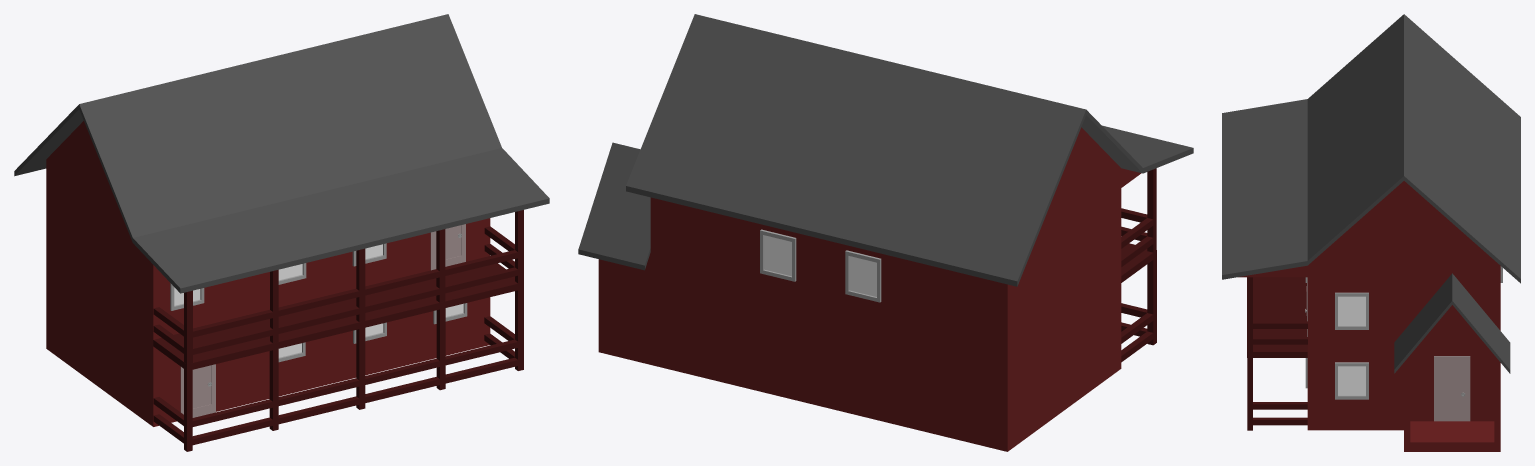
The model's file is Ass_House4_JC_001.fbx.
3 renders of one model, left to right at view 1: azimuth 30°, elevation 25°; view 2: azimuth 150°, elevation 25°; view 3: azimuth 270°, elevation 25°, orthographic. The views are drawn at different scales.
Visible parts, largest first — view 1: mainRoof, MainBody, Verandah, polySurface6, polySurface4, MainBeam53, MainBeam62, MainBeam47, MainBeam48, MainBeam50, MainBeam63, MainBeam51 (+19 smaller); view 2: MainBody, mainRoof, sideRoof, windowframe5, windowframe4, MainBeam43, MainBeam39, Verandah; view 3: mainRoof, MainBody, sideRoof, Verandah, polySurface2, windowframe6, windowframe7, MainBeam71, MainBeam, MainBeam65, MainBeam64, MainBeam70 (+1 smaller).
Part boxes in pixels (<box>): mainRoof: <box>14,14,549,293</box>; MainBody: <box>46,121,490,426</box>; Verandah: <box>153,263,523,370</box>; polySurface6: <box>180,364,215,417</box>; polySurface4: <box>430,224,465,270</box>; MainBeam53: <box>277,378,359,406</box>; MainBeam62: <box>277,396,359,424</box>; MainBeam47: <box>277,288,359,316</box>; MainBeam48: <box>278,306,359,333</box>; MainBeam50: <box>192,327,273,354</box>; MainBeam63: <box>192,417,272,445</box>; MainBeam51: <box>192,399,272,426</box>; MainBody: <box>598,127,1141,451</box>; mainRoof: <box>626,14,1193,286</box>; sideRoof: <box>578,142,650,270</box>; windowframe5: <box>760,229,796,281</box>; windowframe4: <box>845,250,881,302</box>; MainBeam43: <box>1147,257,1156,345</box>; MainBeam39: <box>1147,168,1156,252</box>; Verandah: <box>1121,243,1156,282</box>; mainRoof: <box>1222,14,1520,283</box>; MainBody: <box>1238,181,1500,451</box>; sideRoof: <box>1394,273,1510,373</box>; Verandah: <box>1247,277,1307,357</box>; polySurface2: <box>1434,356,1470,421</box>; windowframe6: <box>1335,362,1368,399</box>; windowframe7: <box>1335,292,1368,329</box>; MainBeam71: <box>1253,417,1307,425</box>; MainBeam: <box>1247,277,1252,351</box>; MainBeam65: <box>1252,337,1307,344</box>; MainBeam64: <box>1252,321,1307,328</box>; MainBeam70: <box>1253,402,1307,409</box>.
Bounding box in the file's own units: 31.5 × 20.73 × 21.59.
